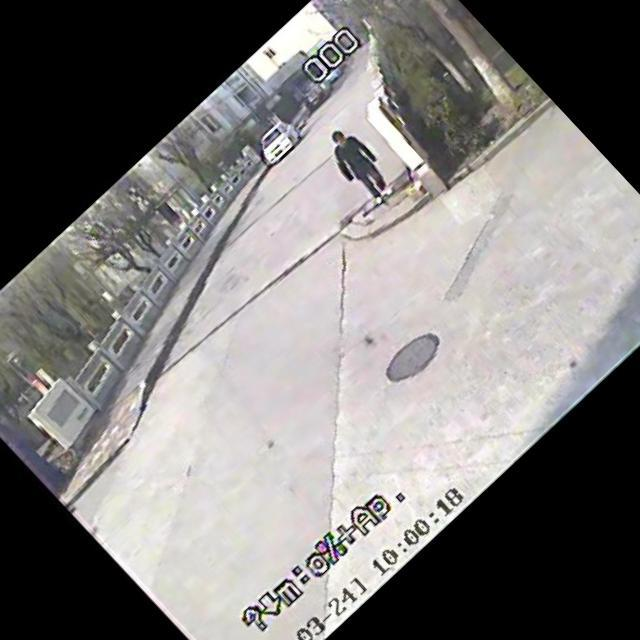person: (312, 114, 411, 215)
